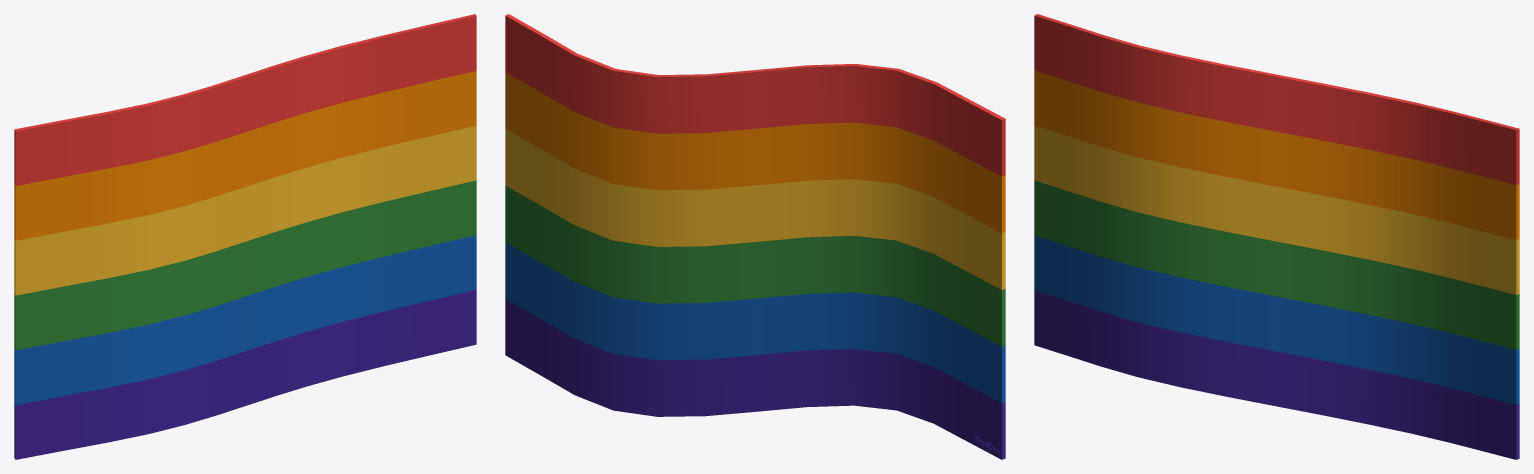
The model's file is rainbow_flag.glb.
The picture shows the model from 3 angles, left to right: view 1: azimuth 30°, elevation 25°; view 2: azimuth 150°, elevation 25°; view 3: azimuth 330°, elevation 25°; orthographic projection. The views are drawn at different scales.
Visible parts, largest first — view 1: Plane.476; view 2: Plane.476; view 3: Plane.476.
Boxes of the visible parts, box(x1,y1,x2,y2) form: Plane.476: box(14, 14, 476, 459); Plane.476: box(505, 14, 1005, 459); Plane.476: box(1034, 14, 1519, 459).
Size of the model in its own units: 2.18 by 1.58 by 0.3373.
1 material, 1 textured.
